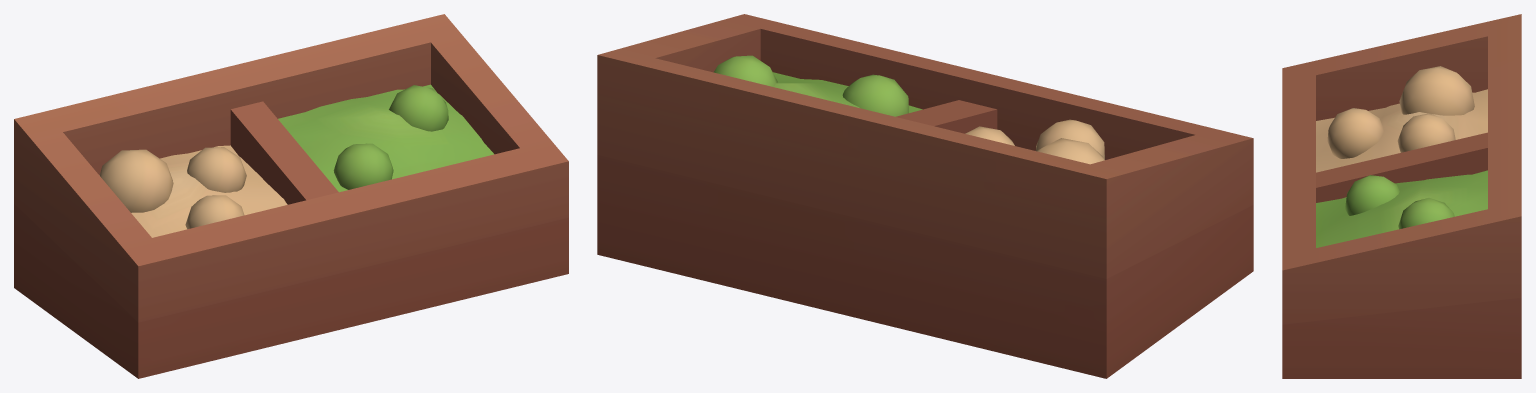
Rendered from crate_long_b.glb.
3 renders of one model, left to right at view 1: azimuth 30°, elevation 25°; view 2: azimuth 150°, elevation 25°; view 3: azimuth 270°, elevation 25°, orthographic. The views are drawn at different scales.
Visible parts, largest first — view 1: crate_long_B; view 2: crate_long_B; view 3: crate_long_B.
Boxes of the visible parts, bbox=[...] form: crate_long_B: bbox=[14, 14, 568, 378]; crate_long_B: bbox=[597, 14, 1253, 378]; crate_long_B: bbox=[1282, 14, 1521, 378].
Size of the model in its own units: 0.4 by 0.15 by 0.2.
Materials: 1 (1 with a texture image).
